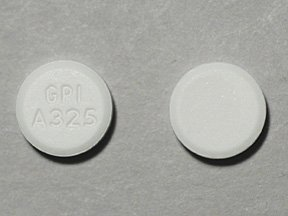Acetaminophen 325 MG Oral Tablet: (162, 57, 277, 168), (10, 54, 122, 164)
